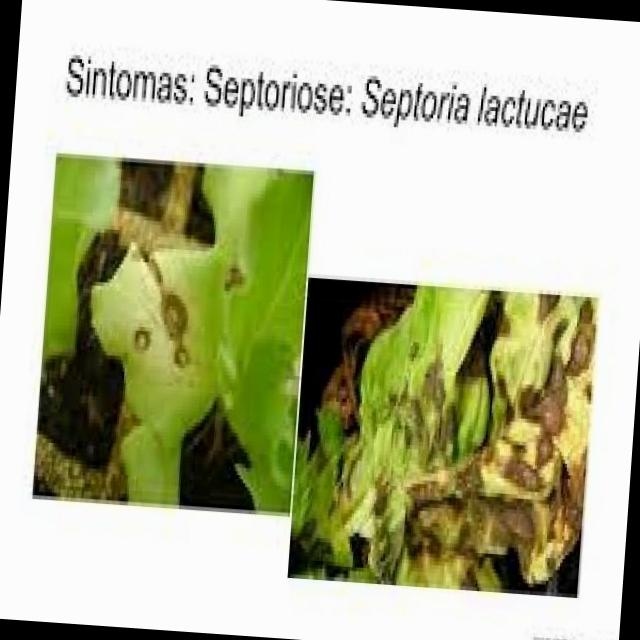Septoria_Blight_on_lettuce: (346, 312, 589, 577), (93, 224, 231, 434)
